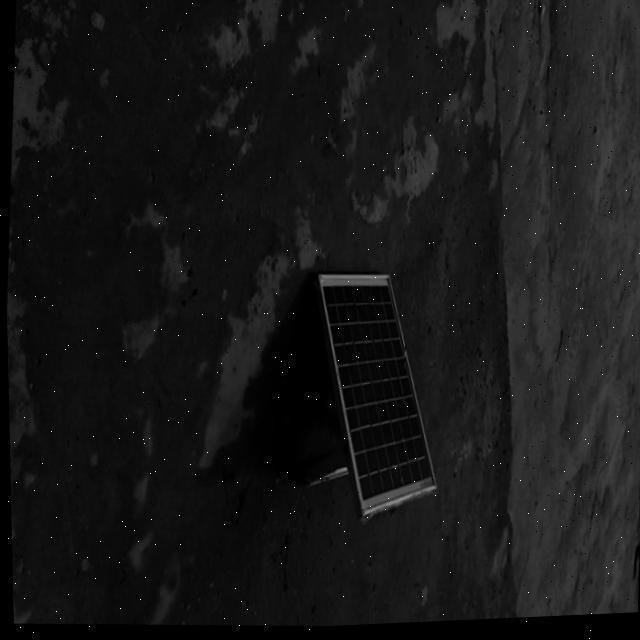Normal Solar Panel: (301, 273, 444, 527)
